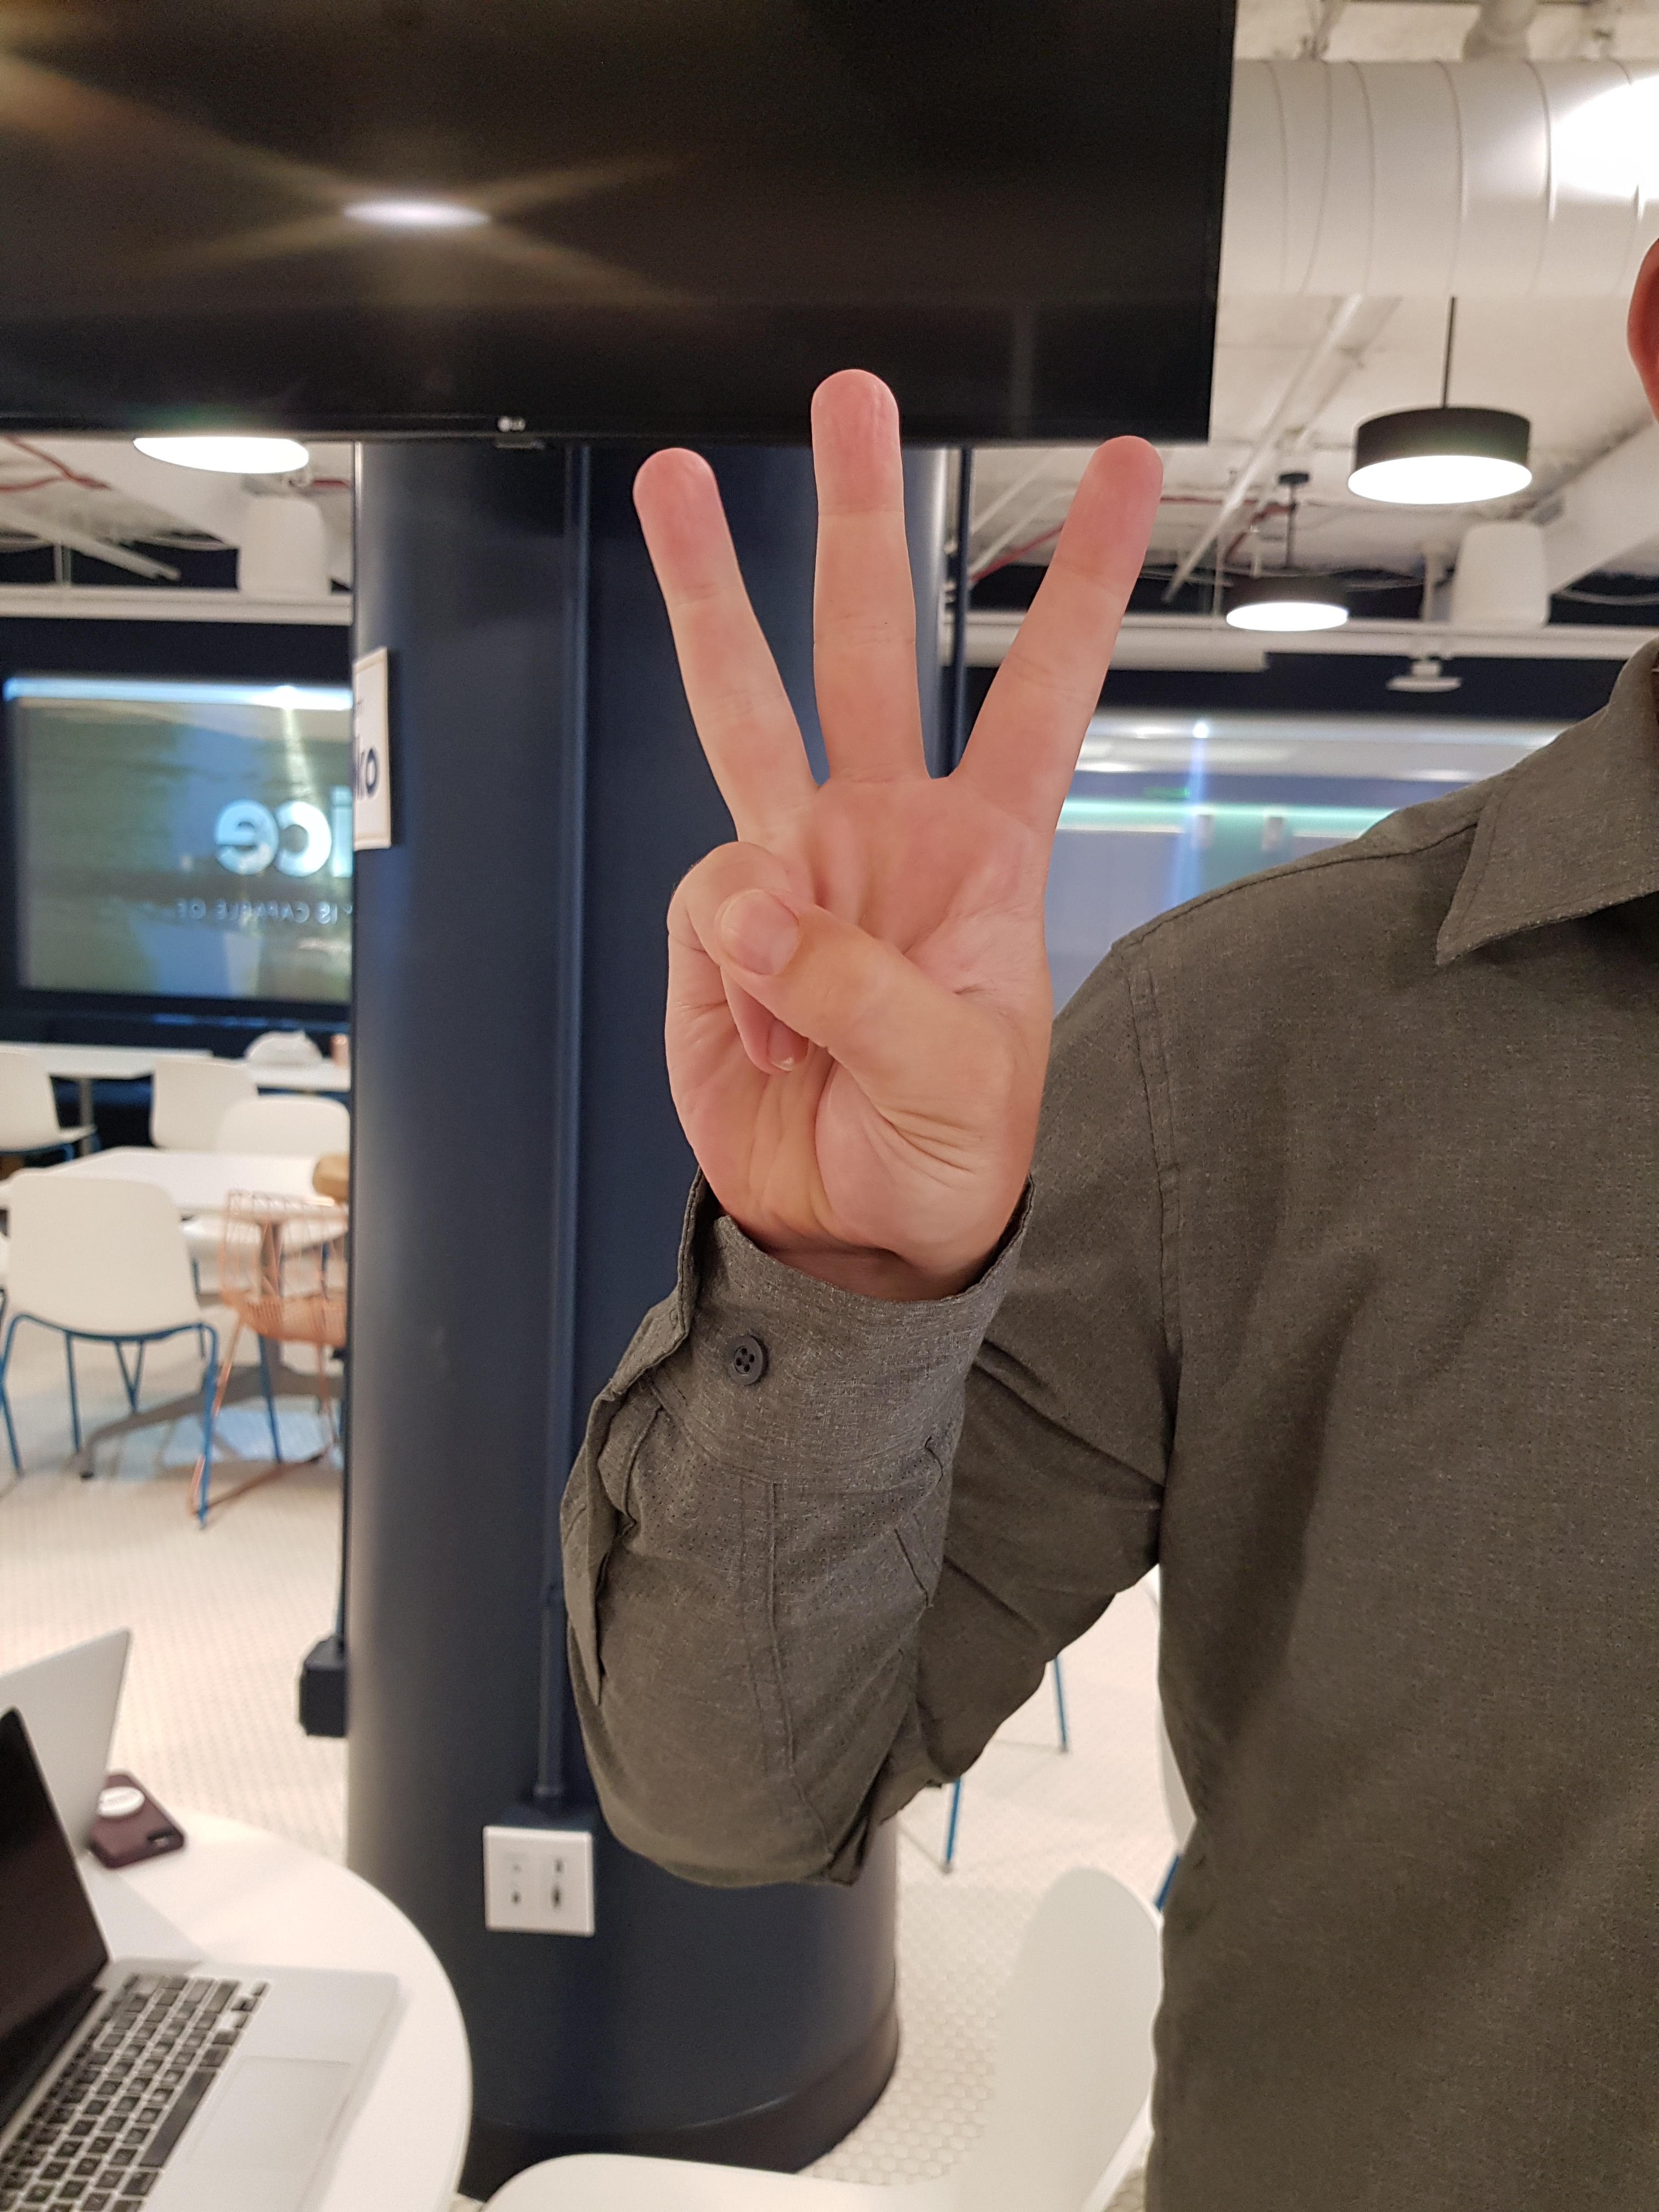w: (568, 329, 1223, 1289)
